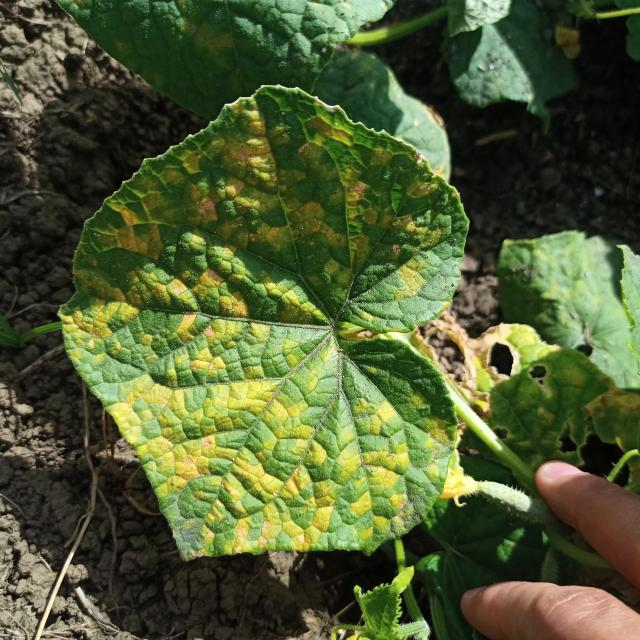disease_cucumber: (68, 102, 454, 548)
